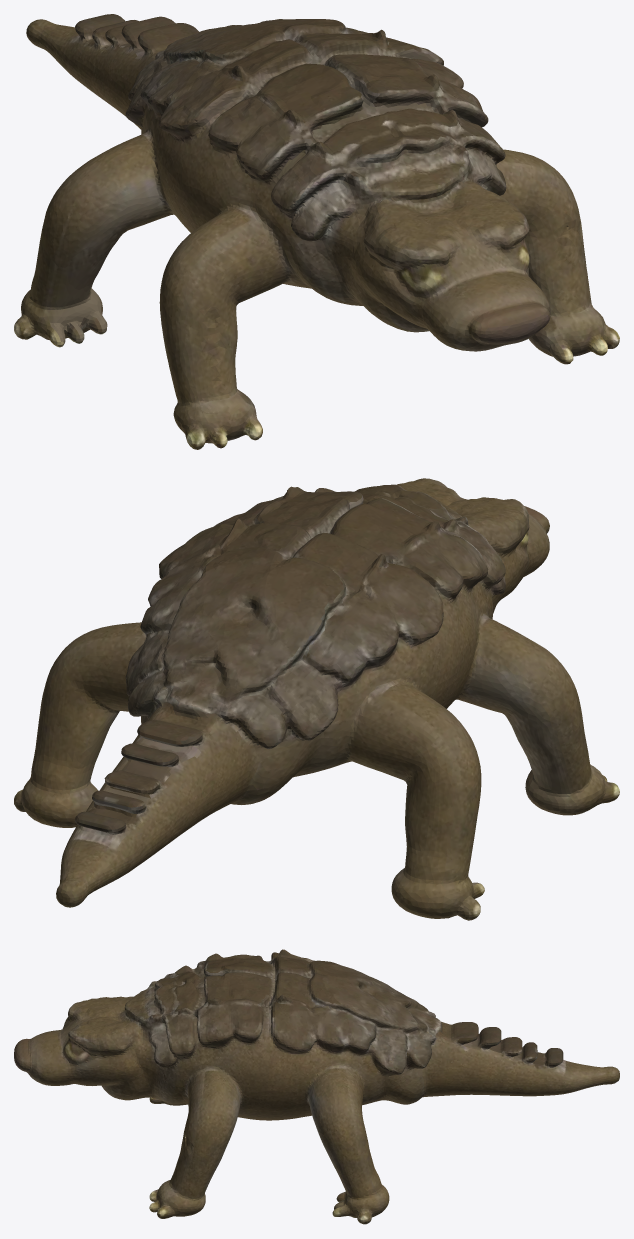
The model's file is creature-018.glb.
3 renders of one model, top to bottom at view 1: azimuth 30°, elevation 25°; view 2: azimuth 150°, elevation 25°; view 3: azimuth 270°, elevation 25°, orthographic. The views are drawn at different scales.
Visible parts, largest first — view 1: tmpny4l5fot.ply; view 2: tmpny4l5fot.ply; view 3: tmpny4l5fot.ply.
Part boxes in pixels (bbox=[...]): tmpny4l5fot.ply: bbox=[14, 14, 619, 449]; tmpny4l5fot.ply: bbox=[14, 478, 619, 920]; tmpny4l5fot.ply: bbox=[14, 949, 619, 1224].
Bounding box in the file's own units: 1.14 × 0.6794 × 1.99.
1 material, 1 textured.
